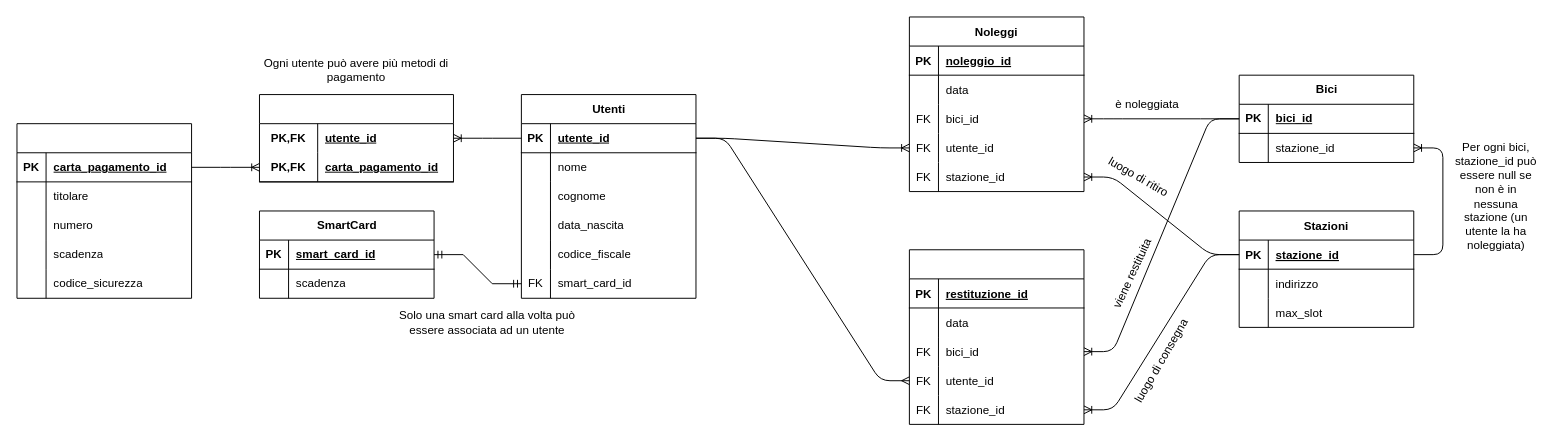
The diagram is 1557 pixels wide and 441 high, and some of its shapes have lost their labels. The box of each missing label's shape, as (x1, y1, x2, y2) in pixels:
CartePagamento: (16, 123, 192, 298)
CarteUtente: (259, 94, 453, 182)
Restituzioni: (908, 249, 1084, 424)
